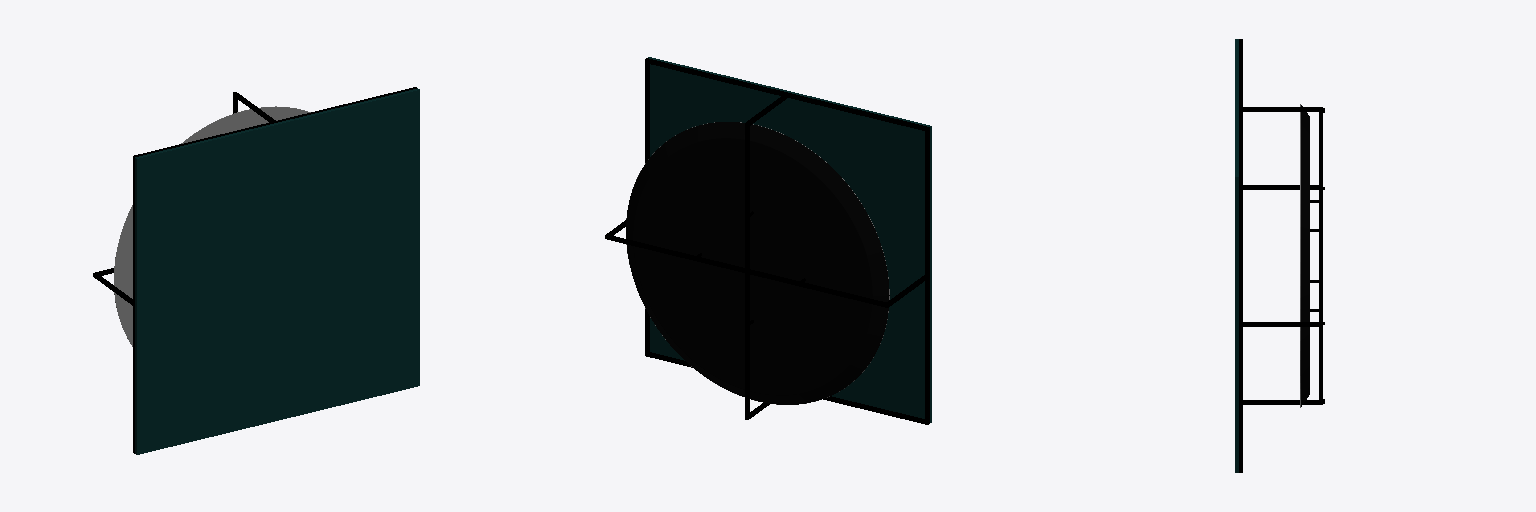
The model's file is Beek_Collection_Bibi_100x100_mat(1).obj.
3 views of the same model, side by side, from view 1: azimuth 30°, elevation 25°; view 2: azimuth 150°, elevation 25°; view 3: azimuth 270°, elevation 25° (orthographic).
Visible parts, largest first — view 1: Beek_Collection_Bibi_100x100_mat1; view 2: Beek_Collection_Bibi_100x100_mat1; view 3: Beek_Collection_Bibi_100x100_mat1.
Boxes of the visible parts, x1=… form: Beek_Collection_Bibi_100x100_mat1: x1=93, y1=87, x2=419, y2=454; Beek_Collection_Bibi_100x100_mat1: x1=605, y1=57, x2=931, y2=424; Beek_Collection_Bibi_100x100_mat1: x1=1235, y1=39, x2=1324, y2=472.
Bounding box in the file's own units: 100 × 100 × 27.5.